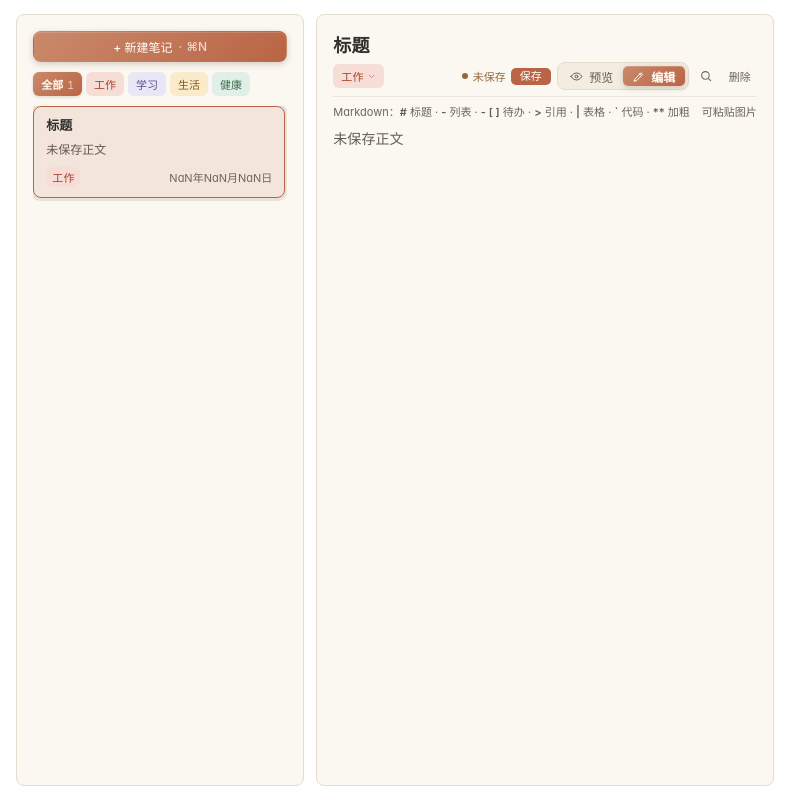
it: tag management › closes the note tag menu with Escape while preserving unsaved note edits
The image size is (791, 800).
Click the button with aria-label "选择笔记标签" at (359, 76), box [333,64,384,88]
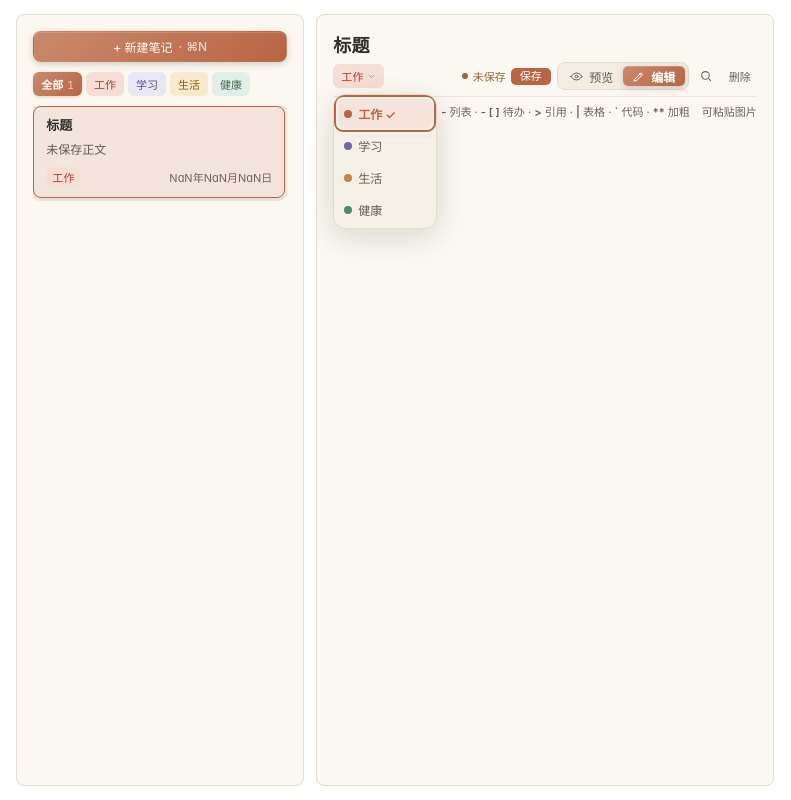
Press Escape in the button "工作 ✓", box [338,99,432,128]
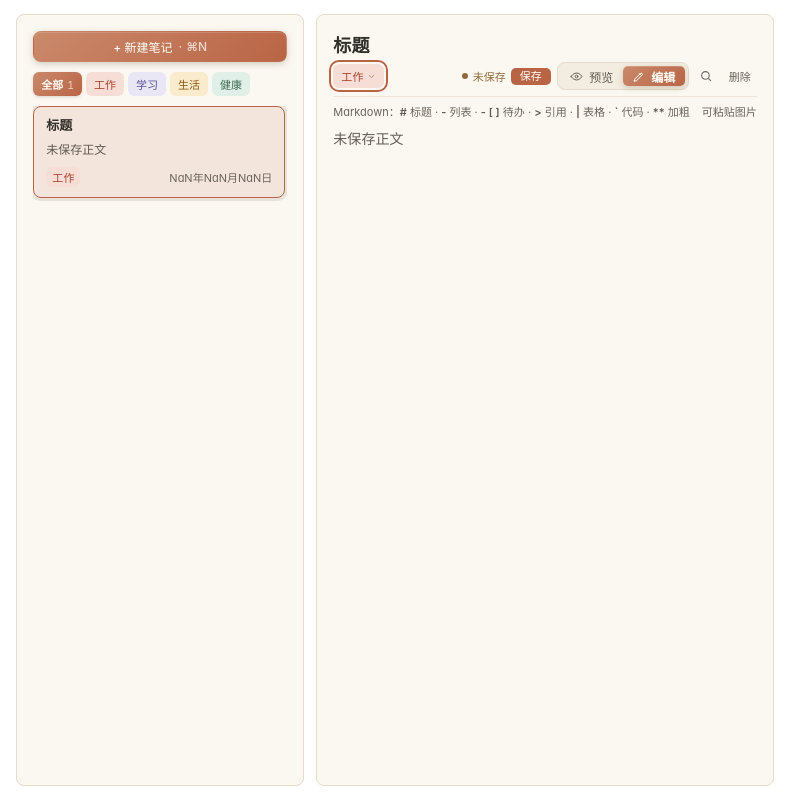
Expected: the text "未保存正文" is shown, [46,142,106,156]
Now the element "选择标签" is gone
